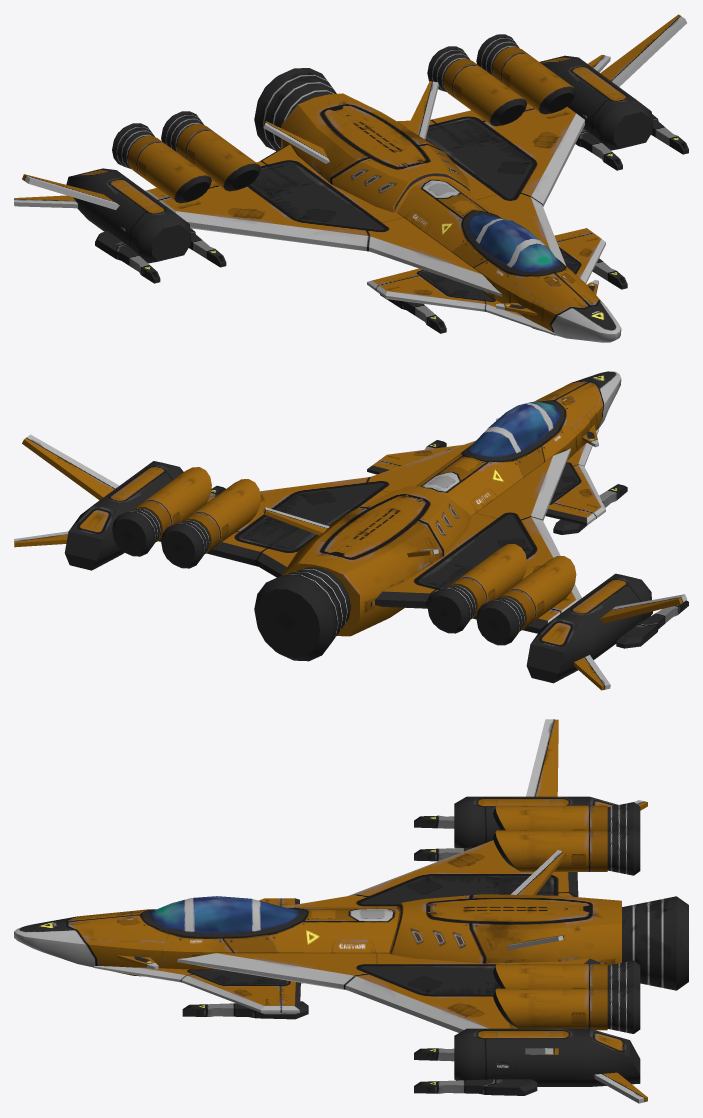
The model's file is starSparrow4.obj.
3 views of the same model, one above another, from view 1: azimuth 30°, elevation 25°; view 2: azimuth 150°, elevation 25°; view 3: azimuth 270°, elevation 25° (orthographic). The views are drawn at different scales.
Visible parts, largest first — view 1: StarSparrow04; view 2: StarSparrow04; view 3: StarSparrow04.
Part boxes in pixels (x1,y1,x2,y2): StarSparrow04: [14, 14, 688, 342]; StarSparrow04: [14, 371, 688, 690]; StarSparrow04: [14, 719, 688, 1103].
Size of the model in its own units: 12.59 by 1.82 by 10.85.
Materials: 1 (1 with a texture image).
